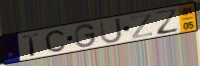C: (44, 29, 67, 53)
G: (74, 23, 97, 49)
T: (22, 32, 42, 57)
U: (98, 17, 124, 45)
Z: (153, 7, 181, 37), (130, 12, 154, 40)
